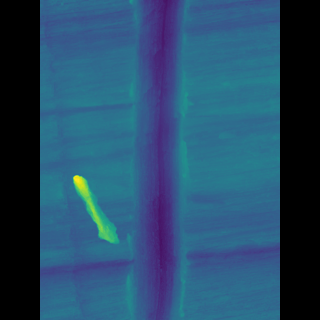Loch: (129, 0, 187, 320), (93, 171, 130, 248)
